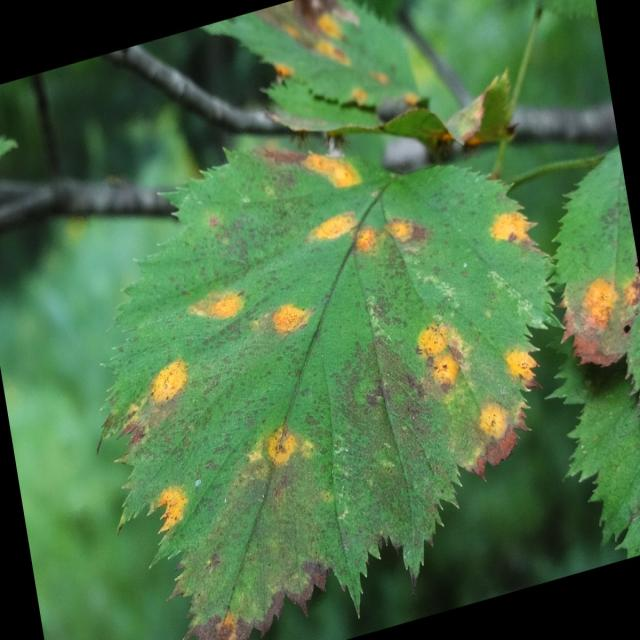Gymnosporangium_Rusts: (88, 0, 640, 640)
